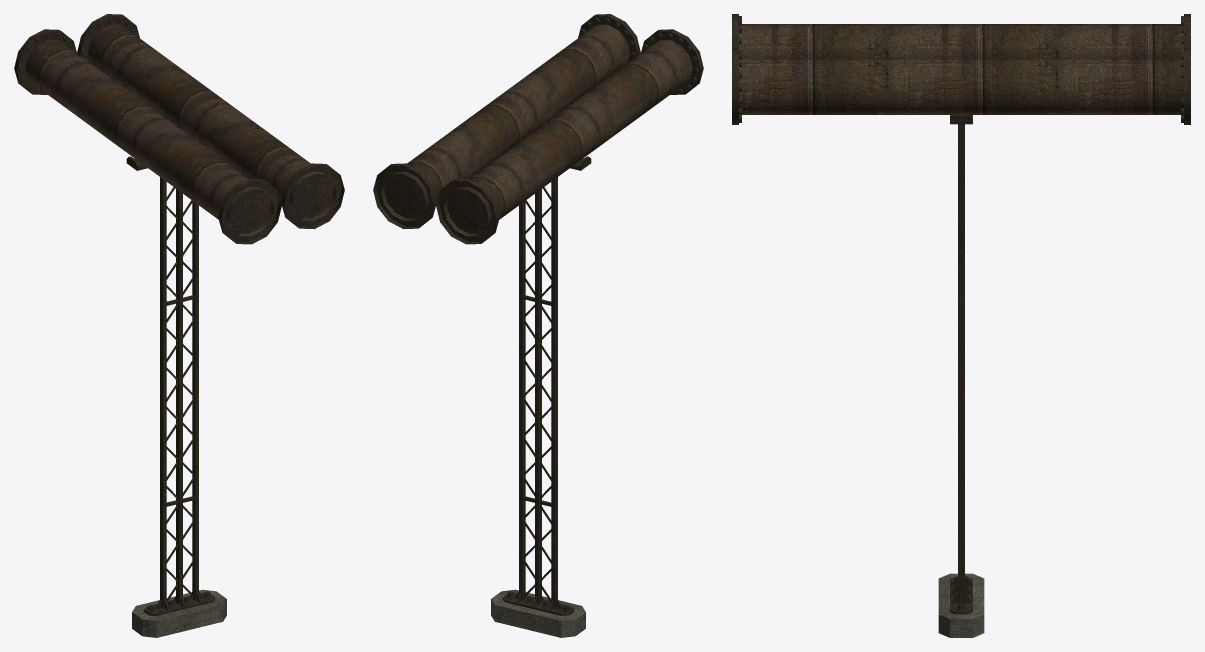
The model's file is pipe_dx_2.glb.
3 views of the same model, side by side, from view 1: azimuth 30°, elevation 25°; view 2: azimuth 150°, elevation 25°; view 3: azimuth 270°, elevation 25° (orthographic). The views are drawn at different scales.
Visible parts, largest first — view 1: pipe_dx_2; view 2: pipe_dx_2; view 3: pipe_dx_2.
Part boxes in pixels (left/top/right/bottom): pipe_dx_2: left=14, top=14, right=344, bottom=637; pipe_dx_2: left=373, top=14, right=703, bottom=637; pipe_dx_2: left=732, top=14, right=1190, bottom=637.
Size of the model in its own units: 1.38 by 5.59 by 4.
Materials: 3 (3 with a texture image).
